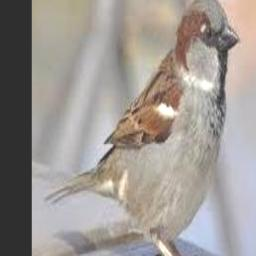Sparrow: (46, 0, 241, 256)
